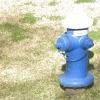a fire hydrant: (56, 12, 96, 90)
